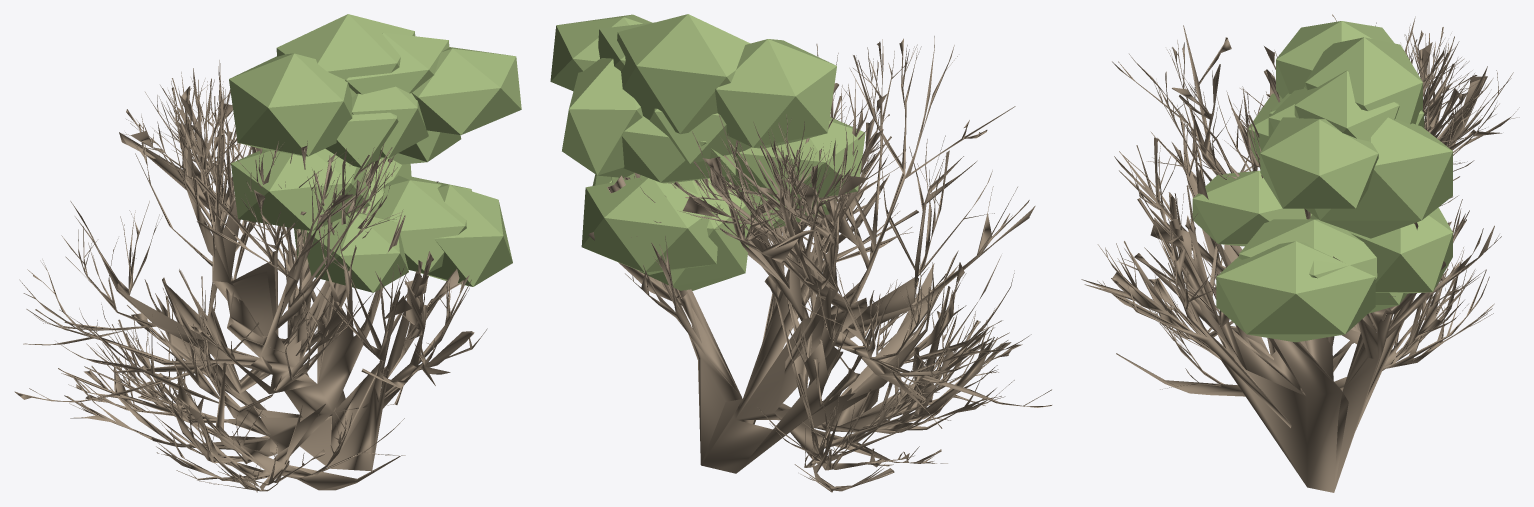
Rendered from StreetPlane_Oak.fbx.
The picture shows the model from 3 angles, left to right: view 1: azimuth 30°, elevation 25°; view 2: azimuth 150°, elevation 25°; view 3: azimuth 270°, elevation 25°; orthographic projection. The views are drawn at different scales.
Parts seen in each view (by area): view 1: Tree_11, StreetPlane_Oak_leaf_cluster_00, StreetPlane_Oak_leaf_cluster_05, StreetPlane_Oak_leaf_cluster_06, StreetPlane_Oak_leaf_cluster_03, StreetPlane_Oak_leaf_cluster_08, StreetPlane_Oak_leaf_cluster_13, StreetPlane_Oak_leaf_cluster_09, StreetPlane_Oak_leaf_cluster_10, StreetPlane_Oak_leaf_cluster_11, StreetPlane_Oak_leaf_cluster_07, StreetPlane_Oak_leaf_cluster_02; view 2: Tree_11, StreetPlane_Oak_leaf_cluster_13, StreetPlane_Oak_leaf_cluster_00, StreetPlane_Oak_leaf_cluster_12, StreetPlane_Oak_leaf_cluster_02, StreetPlane_Oak_leaf_cluster_05, StreetPlane_Oak_leaf_cluster_01, StreetPlane_Oak_leaf_cluster_04, StreetPlane_Oak_leaf_cluster_06, StreetPlane_Oak_leaf_cluster_07, StreetPlane_Oak_leaf_cluster_10; view 3: Tree_11, StreetPlane_Oak_leaf_cluster_08, StreetPlane_Oak_leaf_cluster_02, StreetPlane_Oak_leaf_cluster_06, StreetPlane_Oak_leaf_cluster_13, StreetPlane_Oak_leaf_cluster_12, StreetPlane_Oak_leaf_cluster_03, StreetPlane_Oak_leaf_cluster_09, StreetPlane_Oak_leaf_cluster_10, StreetPlane_Oak_leaf_cluster_00, StreetPlane_Oak_leaf_cluster_05, StreetPlane_Oak_leaf_cluster_11 (+1 smaller).
Boxes of the visible parts, bbox=[...] form: Tree_11: bbox=[14, 60, 487, 492]; StreetPlane_Oak_leaf_cluster_00: bbox=[229, 53, 352, 156]; StreetPlane_Oak_leaf_cluster_05: bbox=[231, 148, 370, 230]; StreetPlane_Oak_leaf_cluster_06: bbox=[412, 47, 521, 134]; StreetPlane_Oak_leaf_cluster_03: bbox=[300, 211, 408, 292]; StreetPlane_Oak_leaf_cluster_08: bbox=[415, 181, 512, 286]; StreetPlane_Oak_leaf_cluster_13: bbox=[276, 14, 415, 97]; StreetPlane_Oak_leaf_cluster_09: bbox=[366, 175, 471, 272]; StreetPlane_Oak_leaf_cluster_10: bbox=[345, 32, 449, 94]; StreetPlane_Oak_leaf_cluster_11: bbox=[351, 86, 428, 158]; StreetPlane_Oak_leaf_cluster_07: bbox=[325, 112, 398, 168]; StreetPlane_Oak_leaf_cluster_02: bbox=[390, 130, 461, 164]; Tree_11: bbox=[588, 36, 1051, 492]; StreetPlane_Oak_leaf_cluster_13: bbox=[617, 14, 750, 134]; StreetPlane_Oak_leaf_cluster_00: bbox=[715, 39, 836, 148]; StreetPlane_Oak_leaf_cluster_12: bbox=[581, 176, 720, 274]; StreetPlane_Oak_leaf_cluster_02: bbox=[562, 58, 642, 177]; StreetPlane_Oak_leaf_cluster_05: bbox=[724, 117, 865, 203]; StreetPlane_Oak_leaf_cluster_01: bbox=[622, 116, 736, 183]; StreetPlane_Oak_leaf_cluster_04: bbox=[639, 178, 752, 290]; StreetPlane_Oak_leaf_cluster_06: bbox=[550, 14, 651, 91]; StreetPlane_Oak_leaf_cluster_07: bbox=[649, 108, 751, 163]; StreetPlane_Oak_leaf_cluster_10: bbox=[598, 22, 654, 70]; Tree_11: bbox=[1081, 14, 1519, 492]; StreetPlane_Oak_leaf_cluster_08: bbox=[1216, 241, 1375, 342]; StreetPlane_Oak_leaf_cluster_02: bbox=[1305, 117, 1452, 238]; StreetPlane_Oak_leaf_cluster_06: bbox=[1260, 117, 1378, 208]; StreetPlane_Oak_leaf_cluster_13: bbox=[1305, 37, 1422, 124]; StreetPlane_Oak_leaf_cluster_12: bbox=[1349, 207, 1452, 293]; StreetPlane_Oak_leaf_cluster_03: bbox=[1192, 170, 1312, 246]; StreetPlane_Oak_leaf_cluster_09: bbox=[1239, 219, 1377, 280]; StreetPlane_Oak_leaf_cluster_10: bbox=[1294, 70, 1399, 141]; StreetPlane_Oak_leaf_cluster_00: bbox=[1276, 21, 1394, 98]; StreetPlane_Oak_leaf_cluster_05: bbox=[1247, 93, 1282, 163]; StreetPlane_Oak_leaf_cluster_11: bbox=[1268, 89, 1303, 139].
Size of the model in its own units: 716 by 618 by 541.
